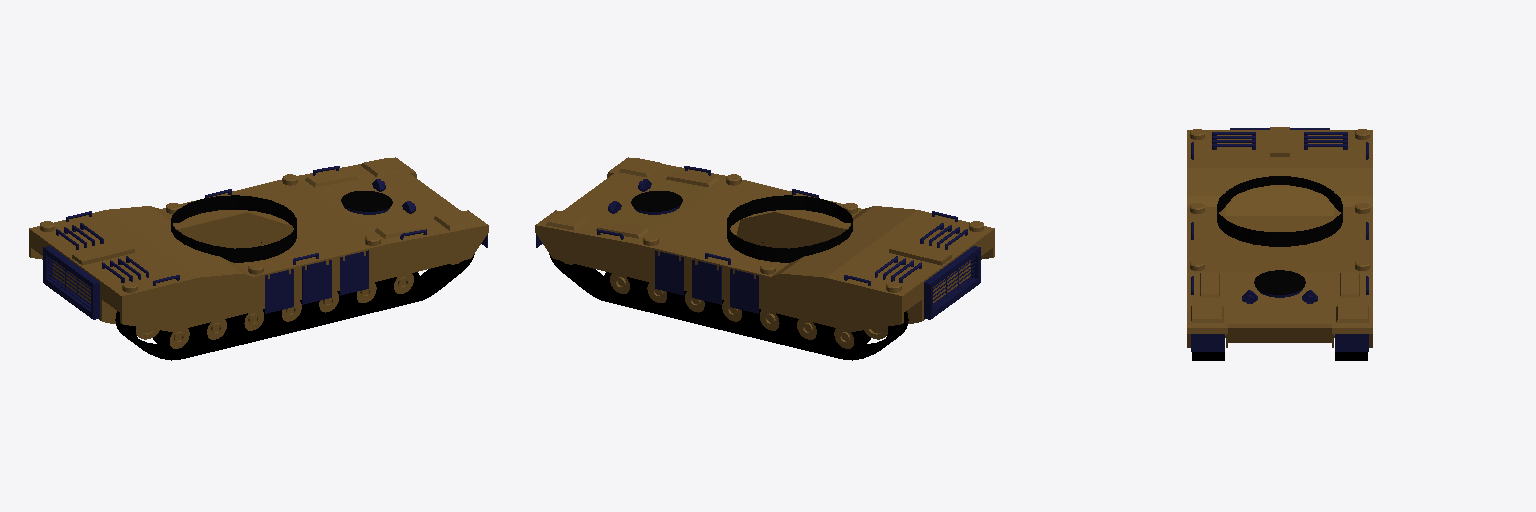
File: m1-abrams-on-tabs.obj
3 renders of one model, left to right at view 1: azimuth 30°, elevation 25°; view 2: azimuth 150°, elevation 25°; view 3: azimuth 270°, elevation 25°, orthographic.
Parts seen in each view (by area): view 1: Body_Cube.018; view 2: Body_Cube.018; view 3: Body_Cube.018.
Part boxes in pixels (x1,y1,x2,y2): Body_Cube.018: (29, 157, 488, 360); Body_Cube.018: (535, 157, 994, 360); Body_Cube.018: (1187, 127, 1372, 360).
Bounding box in the file's own units: 11.31 × 2.47 × 4.88.